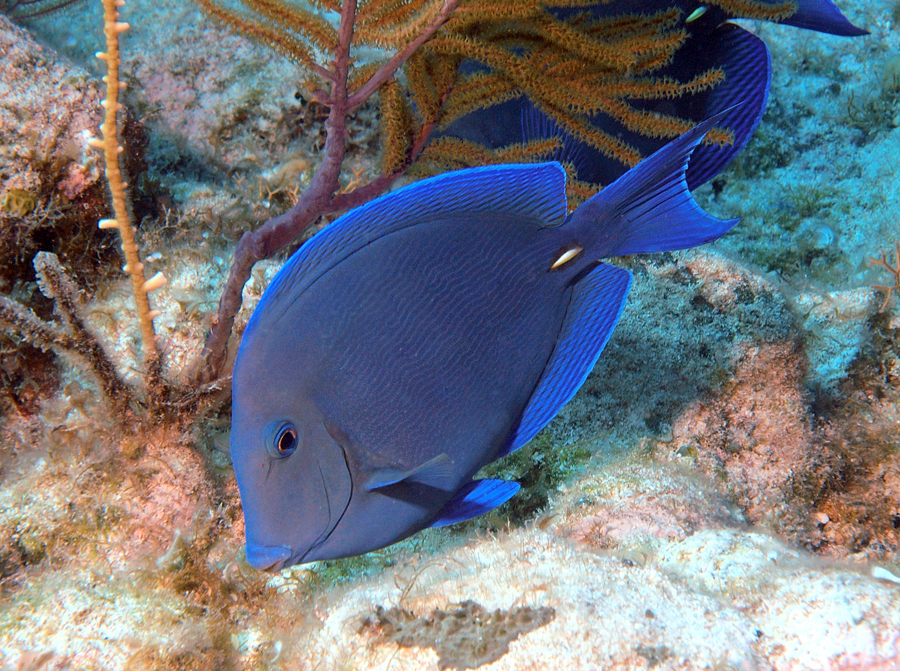Acanthurus_coeruleus: (226, 107, 743, 576)
